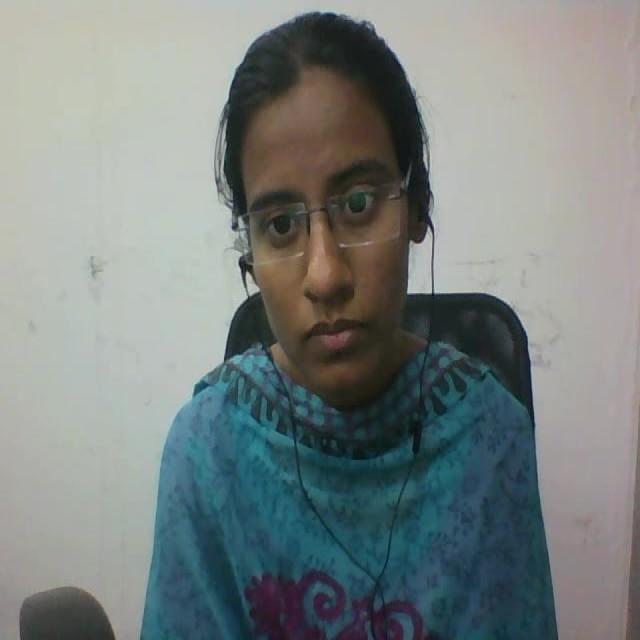Engaged: (192, 0, 445, 416)
